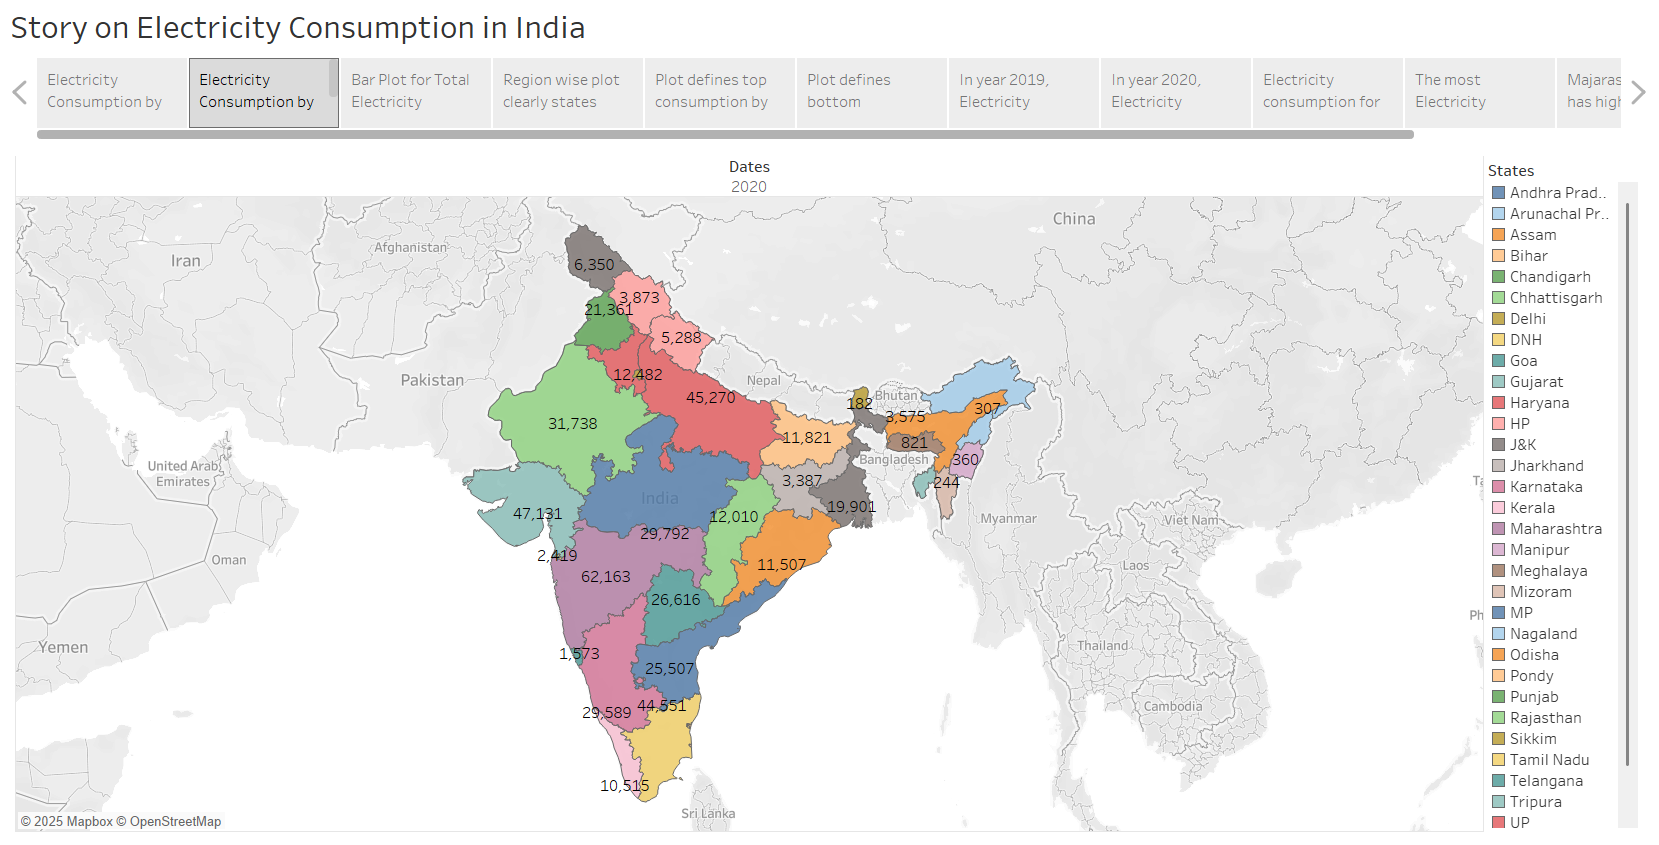

The dashboard page shown, as its layout file describes it:
{"tool":"tableau","page":{"name":"Dashboard 1","canvas":[1000,1000],"units":"permille","ordinal":0},"visuals":[{"type":"worksheet","title":"Year Wise Consumption in Region","mark":"Pie","cols":["Dates"],"box":[526.2,0,369.9,517]},{"type":"worksheet","title":"2019 State Consumption","mark":"Multipolygon","rows":["latitude"],"cols":["Dates","longitude"],"box":[0.6,2.4,263.7,517]},{"type":"worksheet","title":"2020 State Consumption","mark":"Multipolygon","rows":["latitude"],"cols":["Dates"],"box":[264.3,7,260.7,511.2]},{"type":"legend","title":"2019 State Consumption","param":"[federated.0f68l961e6sr3f194c8j3160mdyu].[none:States:nk]","box":[898.8,9.4,96.4,578.1]},{"type":"worksheet","title":"Total Consumption","mark":"Automatic","rows":["Dates","Usage"],"cols":["States"],"box":[267.9,518.2,373,481.8]},{"type":"worksheet","title":"Total Region Consumption","mark":"Pie","box":[0.6,521.7,263.7,475.9]},{"type":"legend","title":"Year Wise Consumption in Region","param":"[federated.0f68l961e6sr3f194c8j3160mdyu].[none:Regions:nk]","box":[898.8,587.5,96.4,158.6]},{"type":"legend","title":"Year Wise Consumption in Region","param":"[federated.0f68l961e6sr3f194c8j3160mdyu].[sum:Usage:qk]","box":[898.8,746.2,96.4,158.6]},{"type":"dashboard-object","box":[716.3,823.7,98.8,61.1]},{"type":"legend","title":"Total Consumption","param":"[federated.0f68l961e6sr3f194c8j3160mdyu].[sum:Usage:qk]","box":[898.8,904.8,96.4,85.8]}]}

Visuals, with their boxes on the dashboard's canvas, which has no fixed pixel size, in thousandths of its width and height (x1, y1, x2, y2). These are canvas units, not pixel positions in the 1659x845 screenshot, which may show the page scaled, cropped or inside an application window:
"Year Wise Consumption in Region" worksheet (Pie marks): bbox=(526, 0, 896, 517)
"2019 State Consumption" worksheet (Multipolygon marks): bbox=(1, 2, 264, 519)
"2020 State Consumption" worksheet (Multipolygon marks): bbox=(264, 7, 525, 518)
"2019 State Consumption" legend: bbox=(899, 9, 995, 588)
"Total Consumption" worksheet: bbox=(268, 518, 641, 1000)
"Total Region Consumption" worksheet (Pie marks): bbox=(1, 522, 264, 998)
"Year Wise Consumption in Region" legend: bbox=(899, 588, 995, 746)
"Year Wise Consumption in Region" legend: bbox=(899, 746, 995, 905)
dashboard-object: bbox=(716, 824, 815, 885)
"Total Consumption" legend: bbox=(899, 905, 995, 991)
